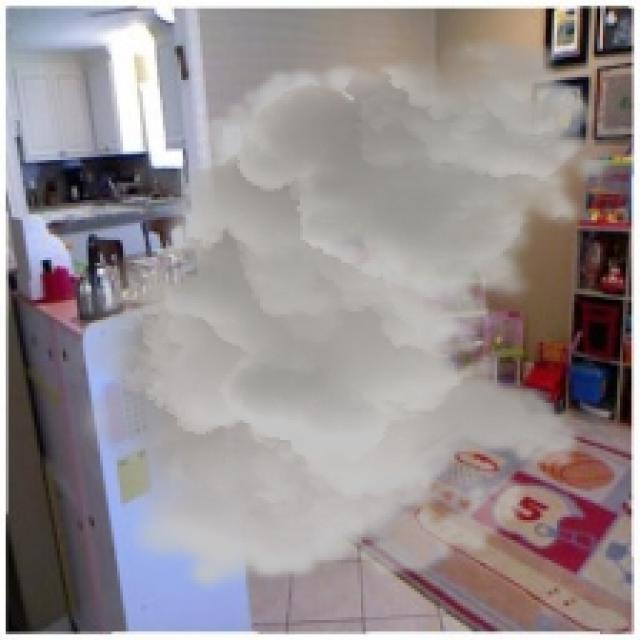Smoke: (57, 34, 617, 594)
